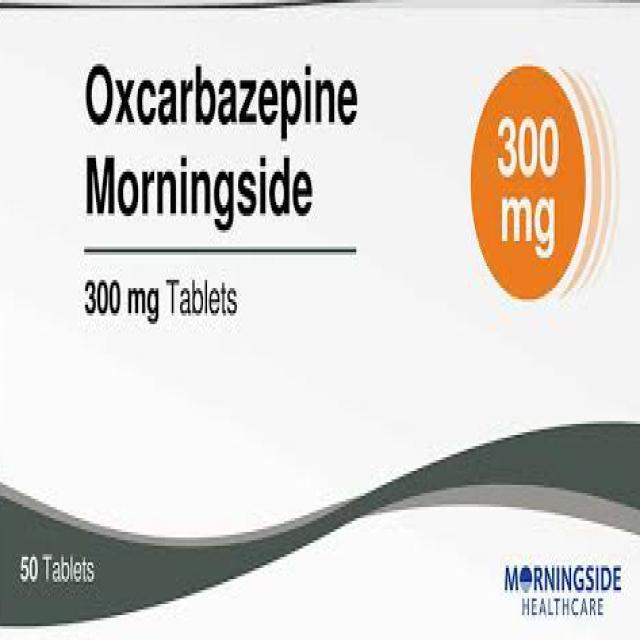drug-name: (82, 56, 365, 242)
